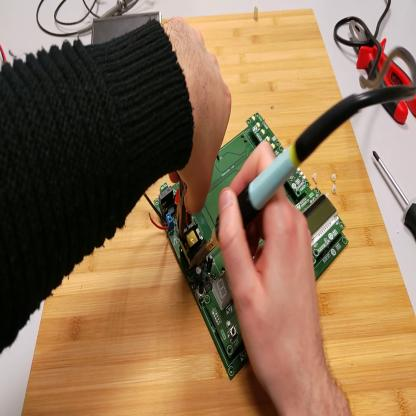hand: (217, 138, 327, 399), (158, 20, 232, 203)
low voltage board: (144, 111, 350, 381)
oscilloscope probe tip: (78, 1, 136, 34)
pliers: (349, 19, 416, 125), (176, 171, 188, 240)
screwdriver-: (373, 149, 415, 241)
welder probe tip: (189, 96, 353, 271)
working area: (22, 11, 416, 415)
